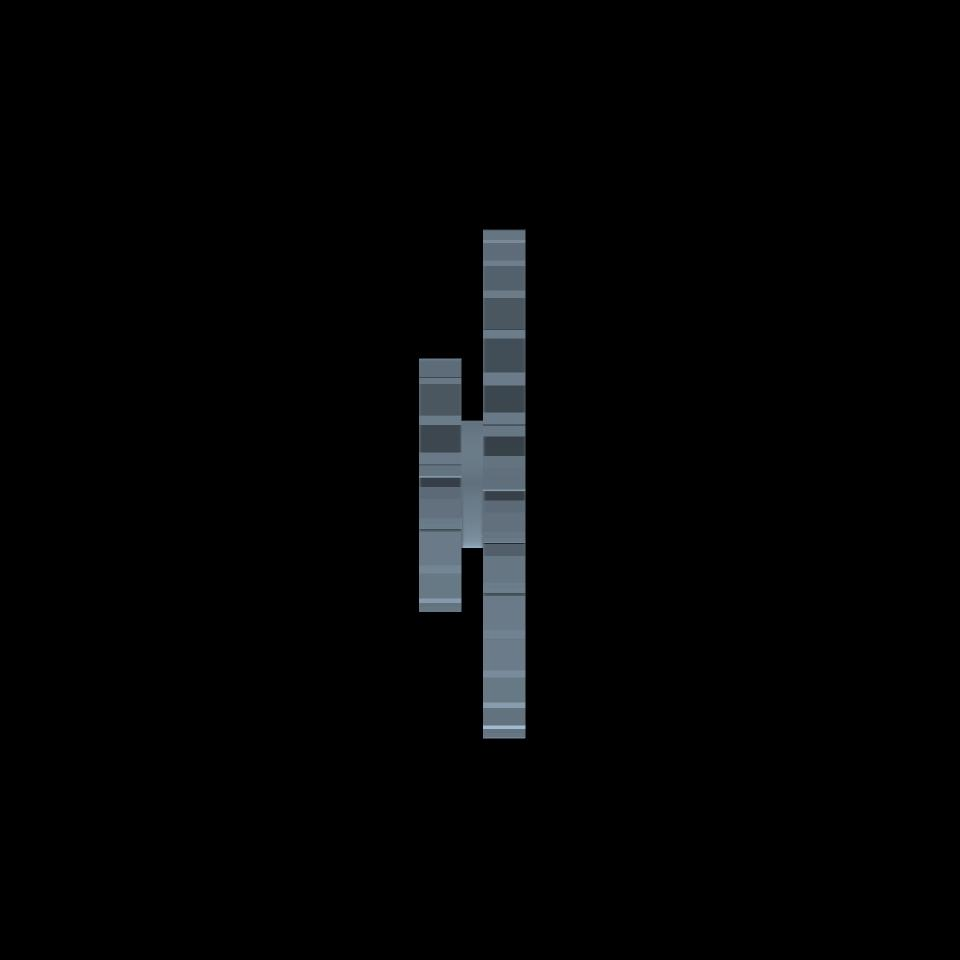Straight: (483, 230, 524, 735), (420, 358, 462, 612)
